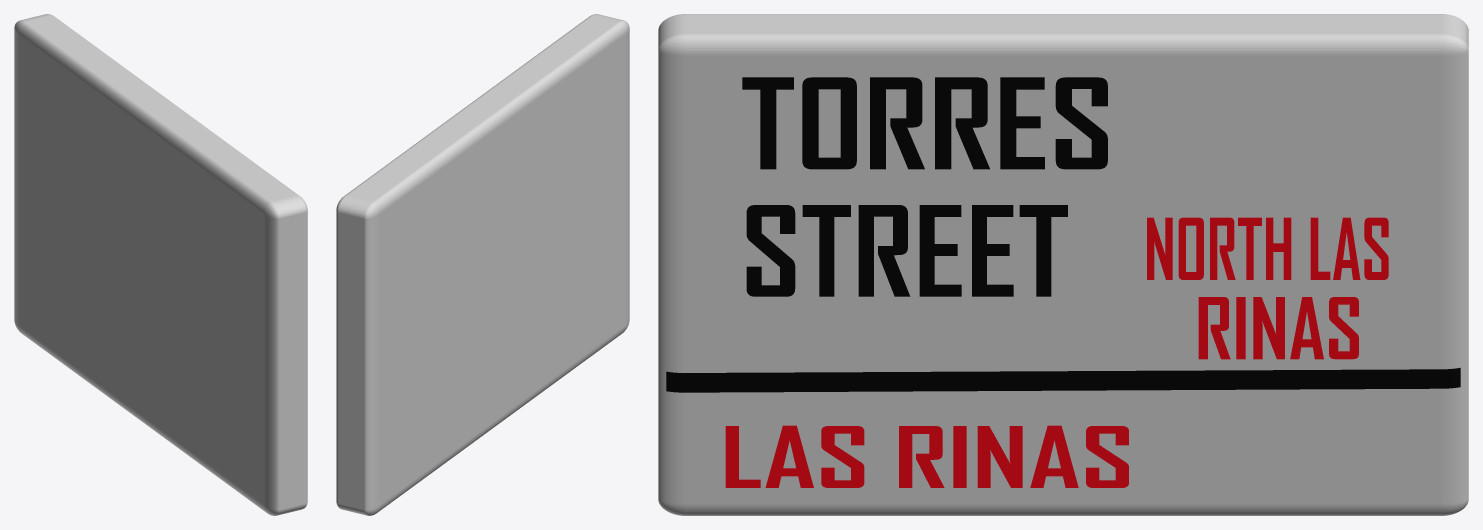
Rendered from uk_styled_street_sign_27.fbx.
The picture shows the model from 3 angles, left to right: view 1: azimuth 30°, elevation 25°; view 2: azimuth 150°, elevation 25°; view 3: azimuth 270°, elevation 25°; orthographic projection. The views are drawn at different scales.
Visible parts, largest first — view 1: Cube; view 2: Cube; view 3: Cube, Text, Text.001, Text.002, Text.003, Text.004.
Part boxes in pixels (x1,y1,x2,y2): Cube: [14, 14, 307, 515]; Cube: [336, 14, 629, 515]; Cube: [658, 14, 1468, 515]; Text: [742, 77, 1107, 169]; Text.001: [746, 205, 1067, 296]; Text.002: [725, 425, 1128, 487]; Text.003: [1147, 217, 1388, 279]; Text.004: [1198, 297, 1358, 359].
Bounding box in the file's own units: 1.63 × 11.91 × 18.18.
